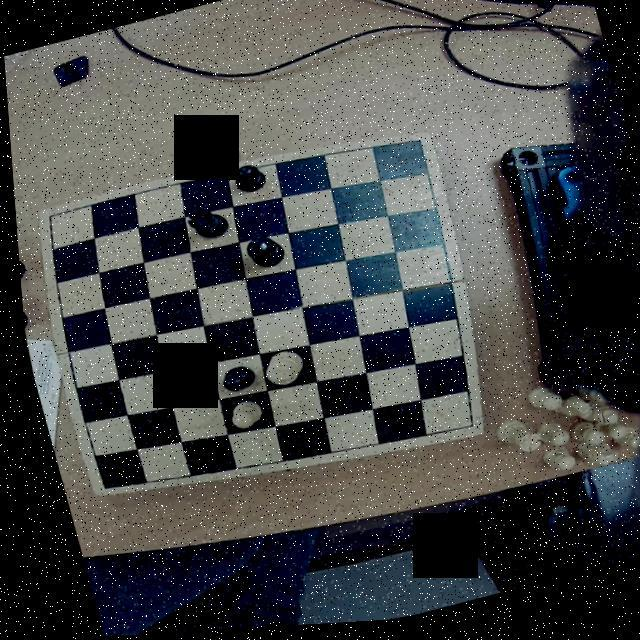chess-table-corners: (398, 136, 431, 164), (449, 415, 479, 442), (82, 476, 115, 499), (33, 209, 59, 233)
